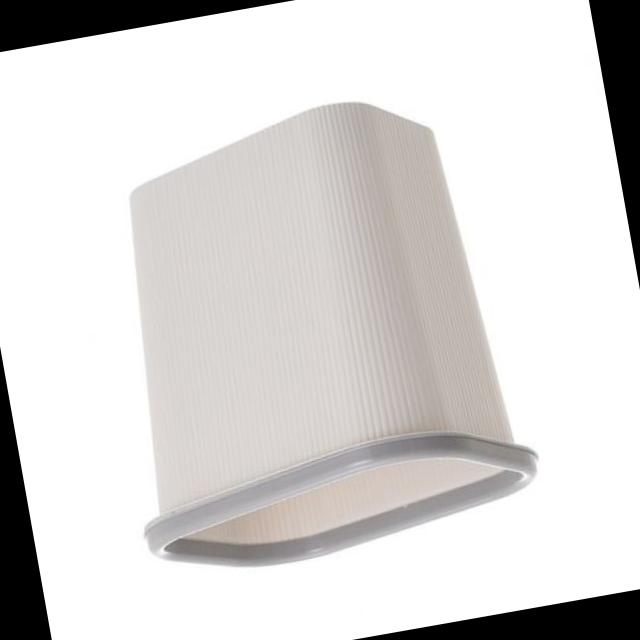dustbin: (70, 72, 555, 597)
